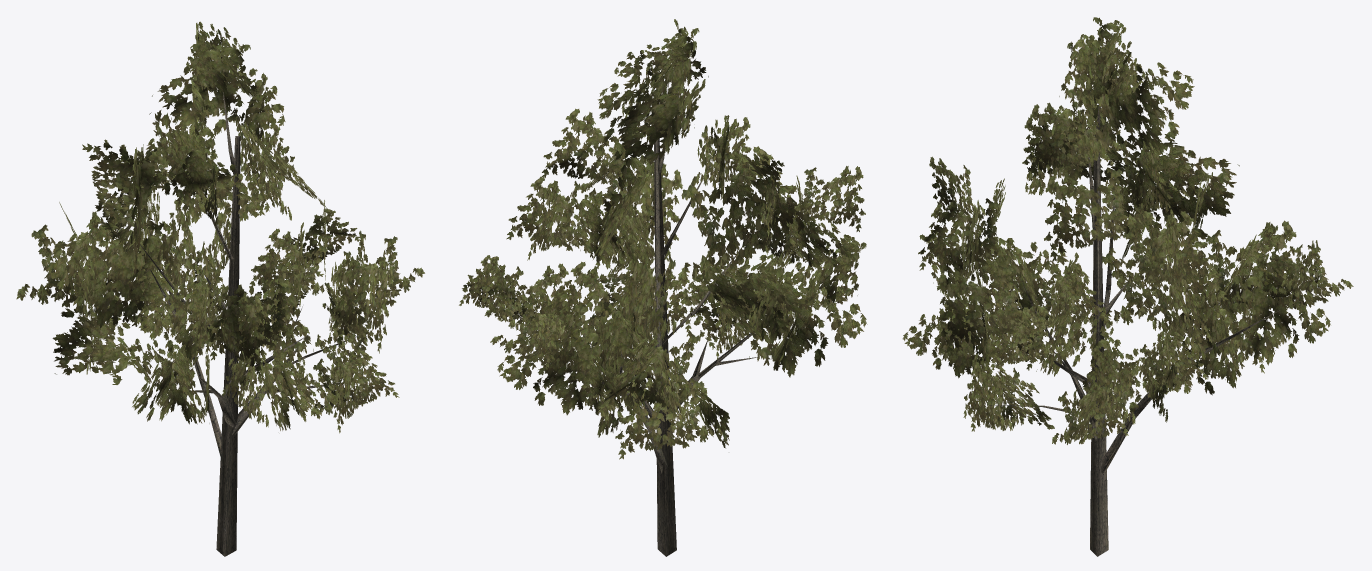
Rendered from Vegetation_Tree02a_lod1.glb.
3 views of the same model, side by side, from view 1: azimuth 30°, elevation 25°; view 2: azimuth 150°, elevation 25°; view 3: azimuth 270°, elevation 25° (orthographic).
Parts seen in each view (by area): view 1: zw_tree02a_lod1_0; view 2: zw_tree02a_lod1_0; view 3: zw_tree02a_lod1_0.
Boxes of the visible parts, x1=… form: zw_tree02a_lod1_0: x1=16, y1=21, x2=424, y2=556; zw_tree02a_lod1_0: x1=459, y1=19, x2=867, y2=556; zw_tree02a_lod1_0: x1=902, y1=17, x2=1353, y2=556.
Bounding box in the file's own units: 9.44 × 14.1 × 11.15.
2 materials, 2 textured.
